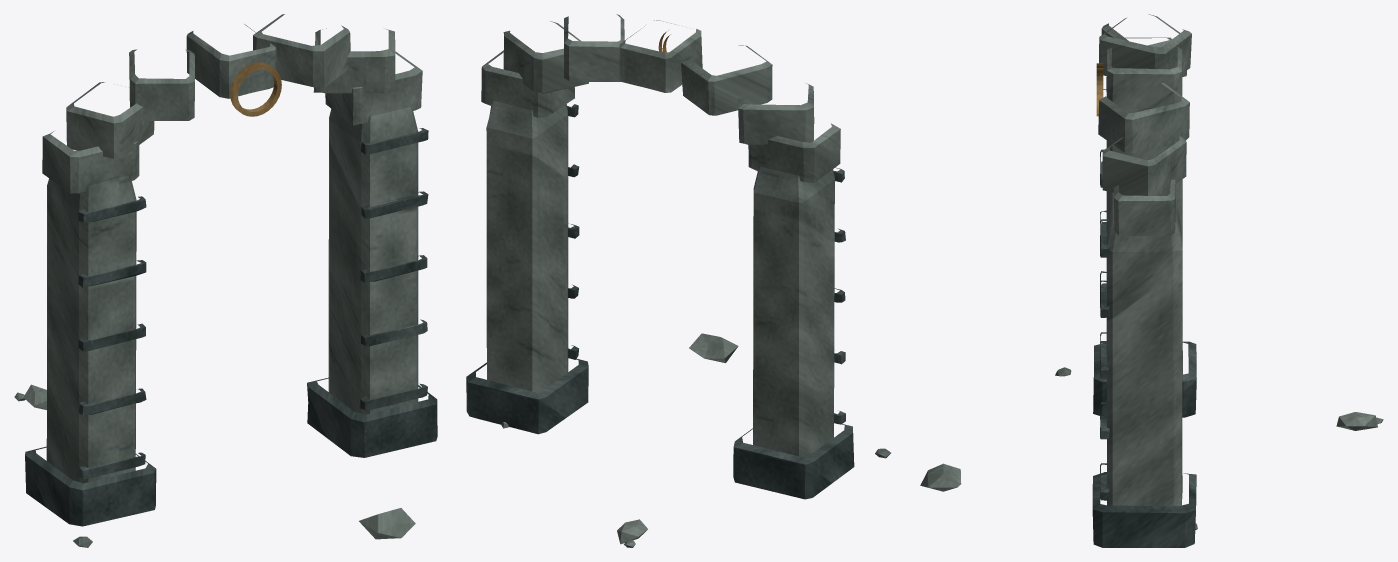
Rendered from 0324_archway_24.glb.
3 views of the same model, side by side, from view 1: azimuth 30°, elevation 25°; view 2: azimuth 150°, elevation 25°; view 3: azimuth 270°, elevation 25° (orthographic). The views are drawn at different scales.
Parts seen in each view (by area): view 1: stone, stone_dark, brass; view 2: stone, stone_dark; view 3: stone, stone_dark.
Boxes of the visible parts, x1,y1,x2,y2 form: stone: (14,14,422,547); stone_dark: (25,128,437,526); brass: (230,62,281,116); stone: (481,14,890,547); stone_dark: (466,104,854,499); stone: (920,14,1383,529); stone_dark: (1092,89,1196,547).
Bounding box in the file's own units: 3.49 × 3.77 × 3.85.
3 materials, 3 textured.
